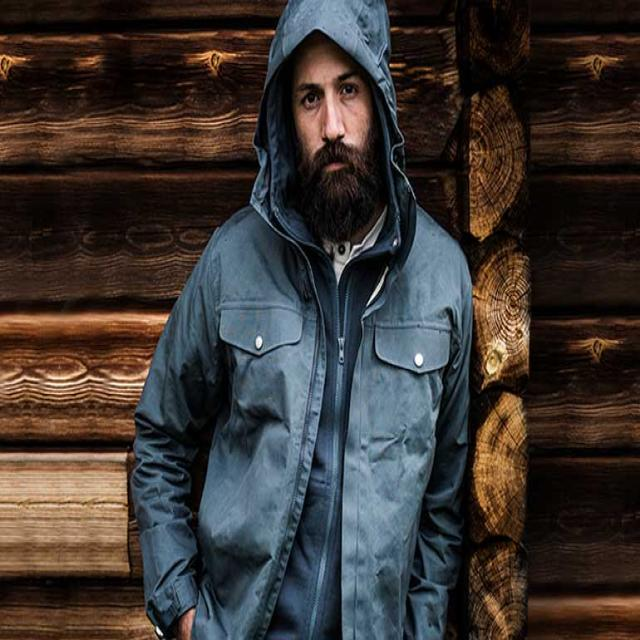mobile_phonerotation: (129, 1, 476, 638)
